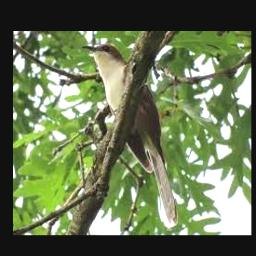Cuckoo: (82, 45, 179, 224)
